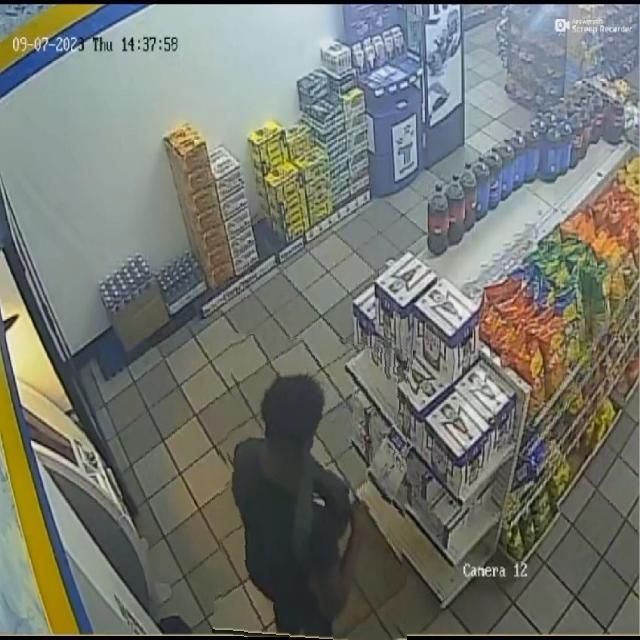Normal: (217, 336, 407, 640)
